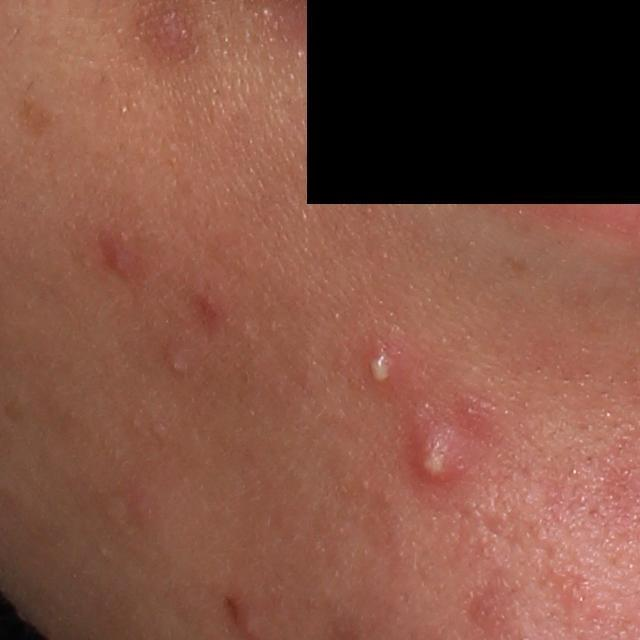comedo: (161, 349, 194, 380)
papule: (105, 245, 133, 282)
pustule: (399, 413, 473, 491), (356, 341, 403, 393)
